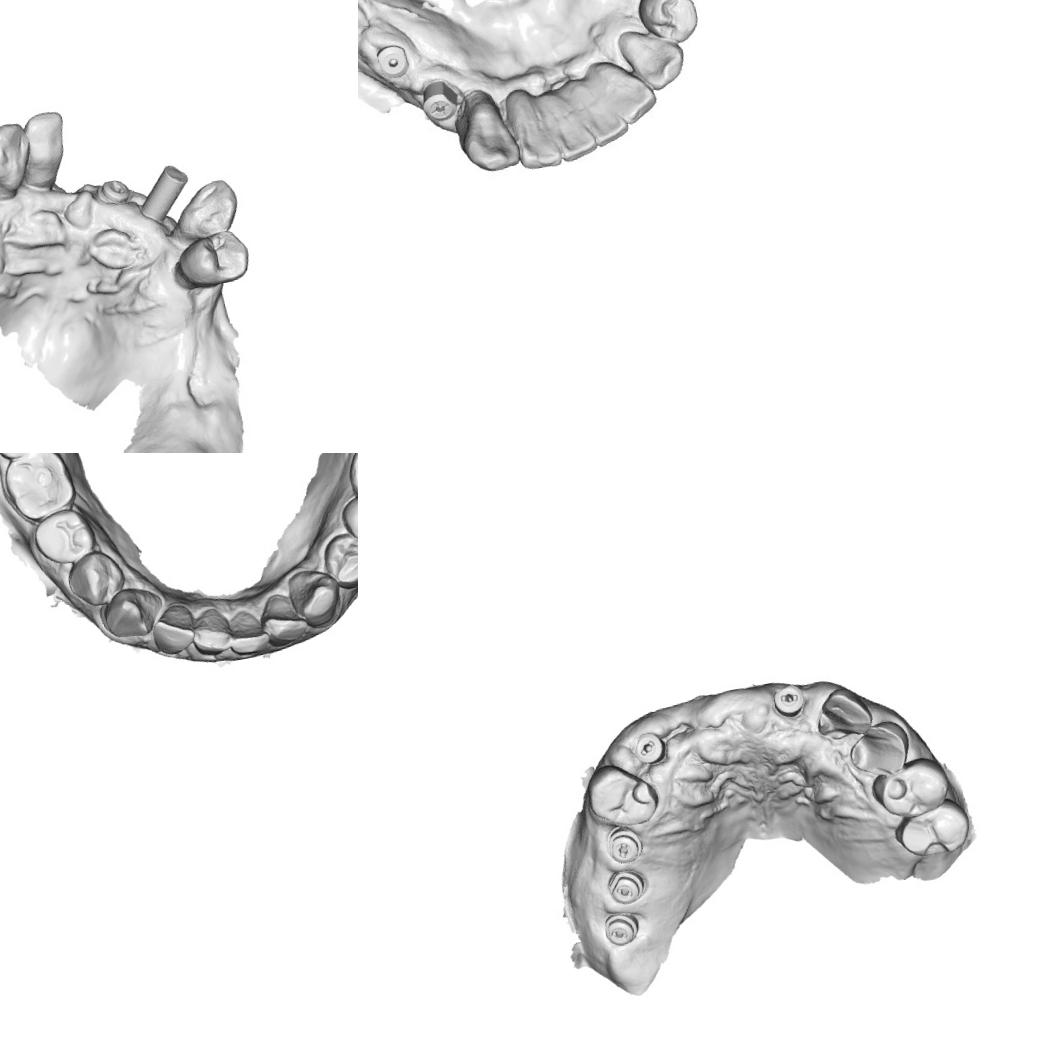canine: (453, 94, 519, 177), (168, 174, 246, 243), (98, 582, 166, 645), (628, 23, 688, 94), (283, 560, 342, 626), (810, 682, 874, 741), (0, 117, 38, 197)
implant: (130, 158, 196, 226), (371, 38, 413, 79)
implant_minus: (92, 167, 136, 210), (602, 822, 645, 866), (604, 864, 647, 907), (600, 906, 641, 948), (629, 728, 668, 768), (770, 681, 807, 720)
implant_plus: (415, 80, 458, 123)
incisor: (564, 72, 630, 150), (589, 55, 657, 128), (506, 85, 563, 167), (539, 88, 596, 160), (18, 105, 74, 174), (258, 586, 310, 648), (147, 598, 199, 658), (184, 604, 232, 658), (225, 608, 268, 658)
molar: (0, 453, 82, 526), (890, 793, 973, 861)
premolar: (867, 752, 953, 823), (582, 756, 662, 832), (173, 226, 253, 292), (30, 504, 99, 568), (845, 716, 914, 780), (61, 545, 126, 608), (635, 0, 701, 44), (315, 524, 358, 591), (340, 489, 358, 549)
